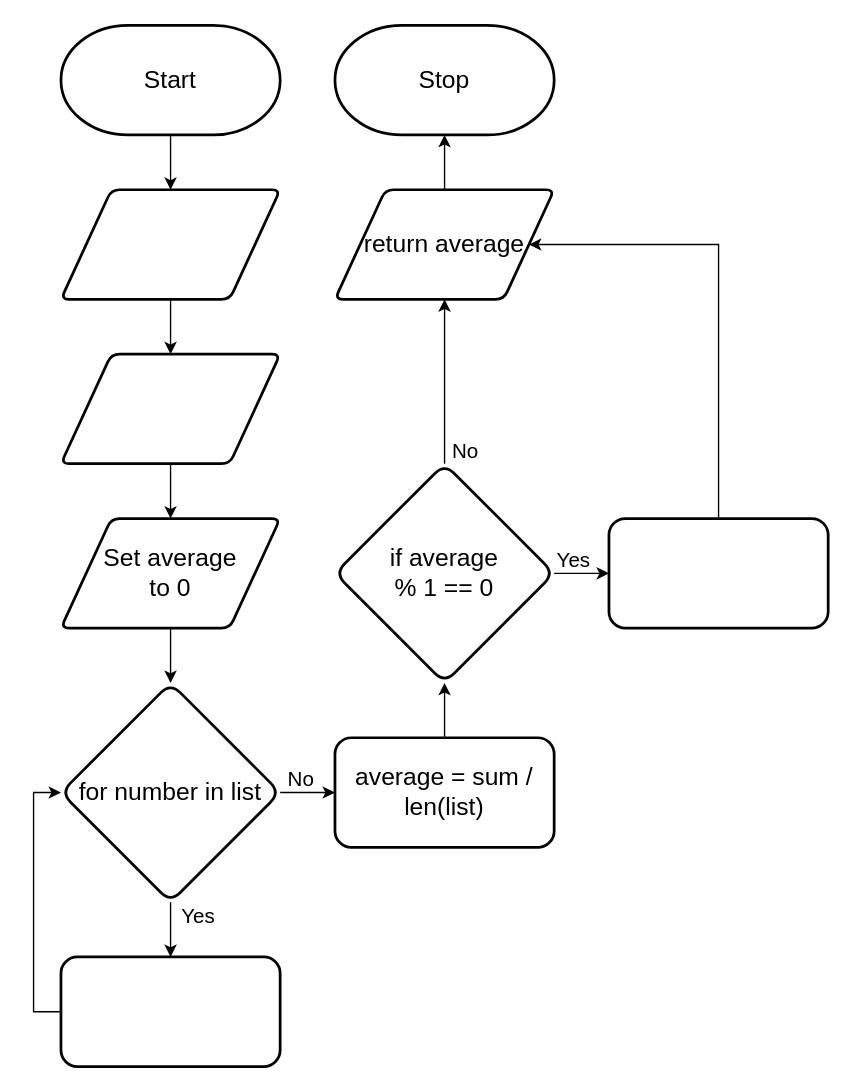
This 854x1091 diagram has some shape labels left out. The box of each missing label's shape, as (x1, y1, x2, y2) in pixels:
average = int(average): (607, 516, 829, 629)
Set list: (59, 188, 281, 300)
Set sum to 0: (59, 352, 281, 464)
sum += number: (59, 955, 281, 1067)
